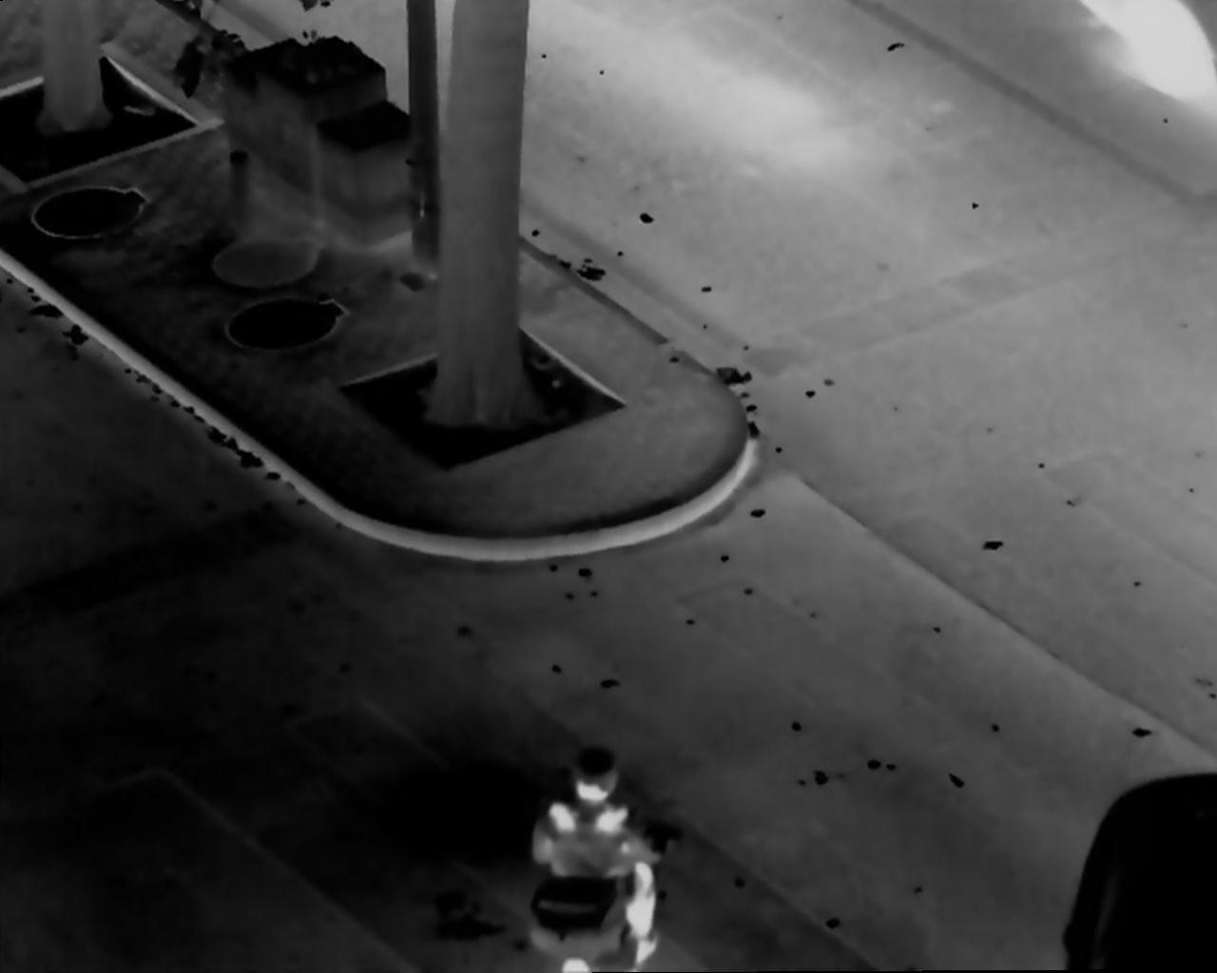person: (531, 744, 671, 973)
